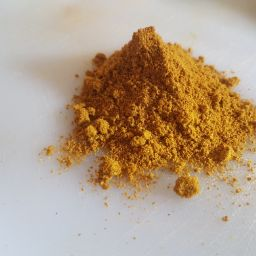Curry powder: (70, 28, 256, 206), (74, 18, 256, 194), (22, 102, 256, 222)
